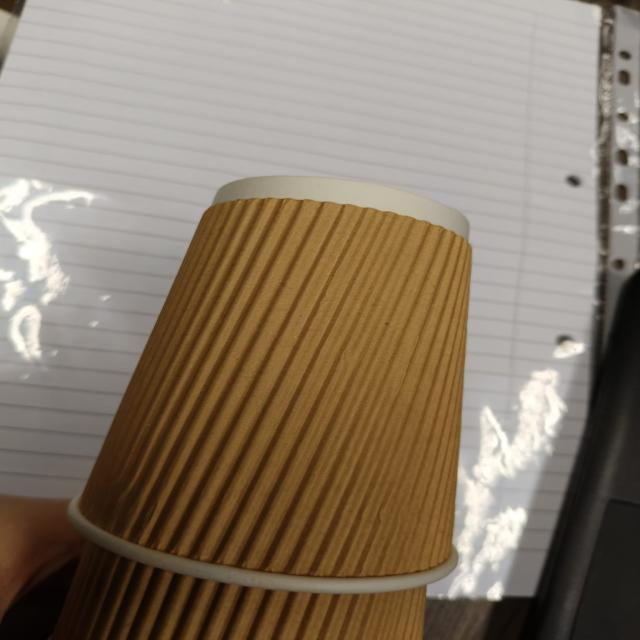Browncup: (64, 179, 472, 587), (11, 510, 439, 640)
